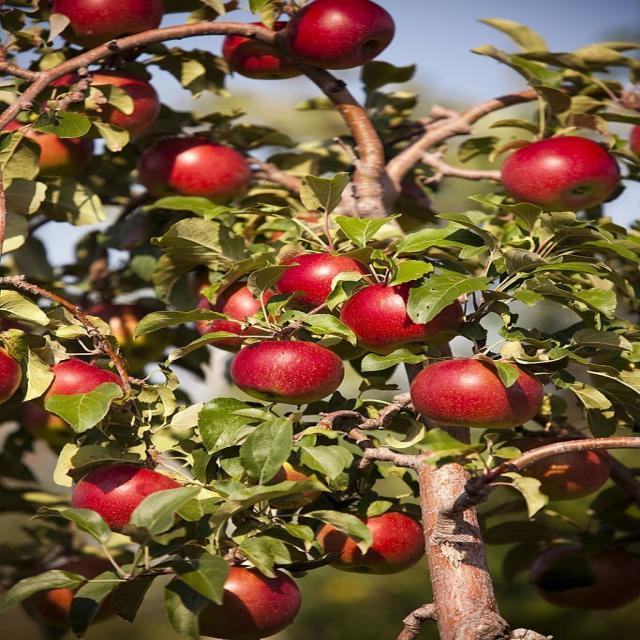Red Apple: (416, 357, 543, 428), (503, 137, 624, 210), (343, 284, 466, 352), (73, 464, 186, 534), (229, 338, 348, 403), (199, 568, 302, 637), (319, 510, 429, 574), (294, 1, 400, 64), (153, 136, 254, 202), (513, 435, 614, 495), (198, 284, 299, 343), (30, 357, 123, 421), (65, 74, 166, 127), (281, 250, 372, 307), (55, 2, 160, 47), (228, 18, 306, 73), (12, 117, 92, 170)
